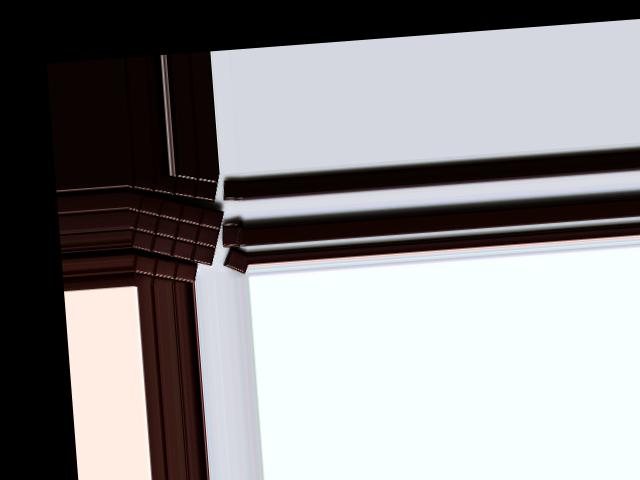chocolate: (126, 186, 226, 273)
